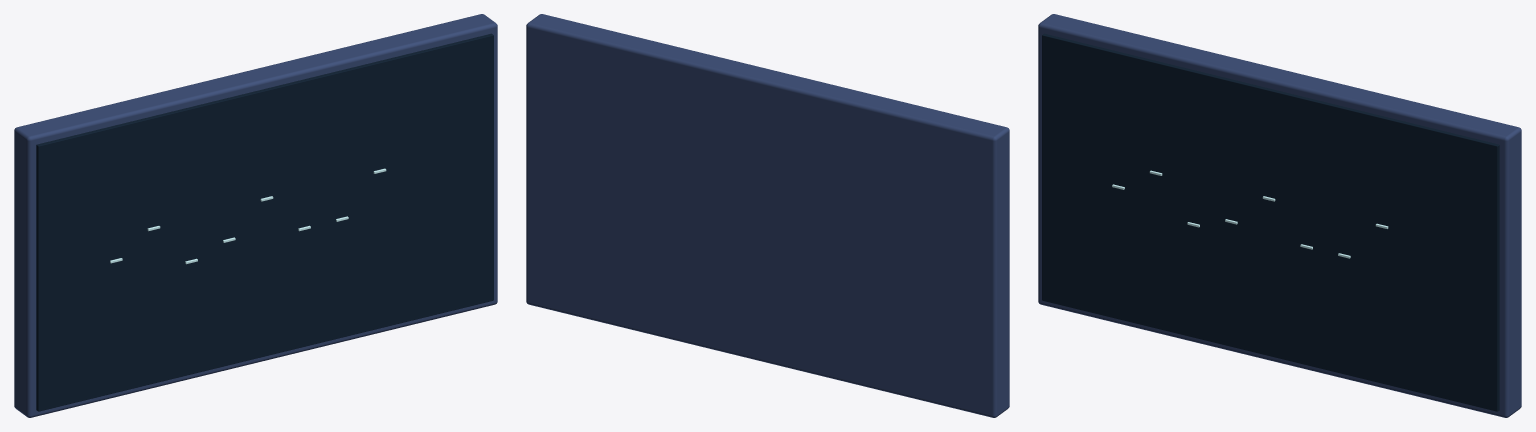
Rendered from wallScreen.glb.
3 views of the same model, side by side, from view 1: azimuth 30°, elevation 25°; view 2: azimuth 150°, elevation 25°; view 3: azimuth 330°, elevation 25° (orthographic).
Visible parts, largest first — view 1: display glass, display frame; view 2: display frame; view 3: display glass, display frame.
Part boxes in pixels (x1,y1,x2,y2): display glass: (36, 33, 493, 411); display frame: (14, 14, 497, 417); display frame: (526, 14, 1009, 417); display glass: (1042, 33, 1499, 411); display frame: (1038, 14, 1521, 417).
Bounding box in the file's own units: 1.4 × 0.8 × 0.099.
